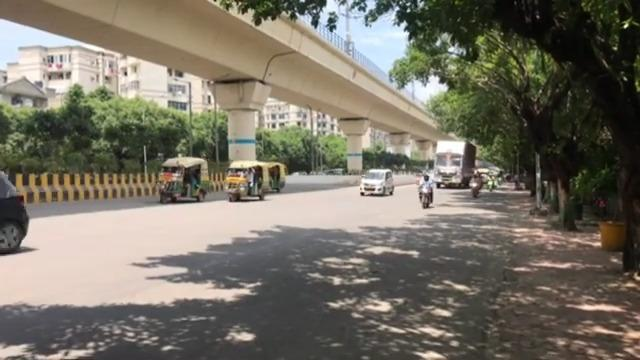Auto: (156, 153, 208, 203), (224, 157, 269, 201), (261, 158, 288, 196)
Bike: (416, 174, 434, 208), (468, 173, 483, 197)
Truck: (434, 138, 478, 188)
